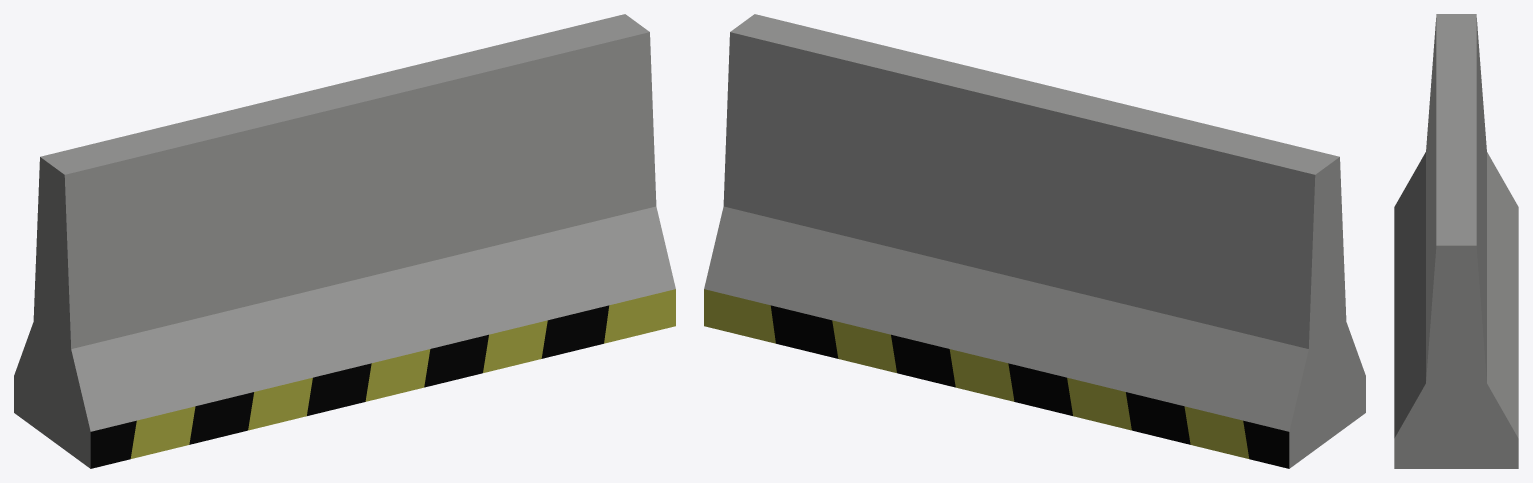
The model's file is Concrete Barricade.fbx.
The picture shows the model from 3 angles, left to right: view 1: azimuth 30°, elevation 25°; view 2: azimuth 150°, elevation 25°; view 3: azimuth 270°, elevation 25°; orthographic projection. The views are drawn at different scales.
Parts seen in each view (by area): view 1: pCube1; view 2: pCube1; view 3: pCube1.
Part boxes in pixels (bbox=[...]): pCube1: bbox=[14, 14, 675, 468]; pCube1: bbox=[704, 14, 1365, 468]; pCube1: bbox=[1394, 14, 1518, 468].
Size of the model in its own units: 5.24 by 2.35 by 1.19.
